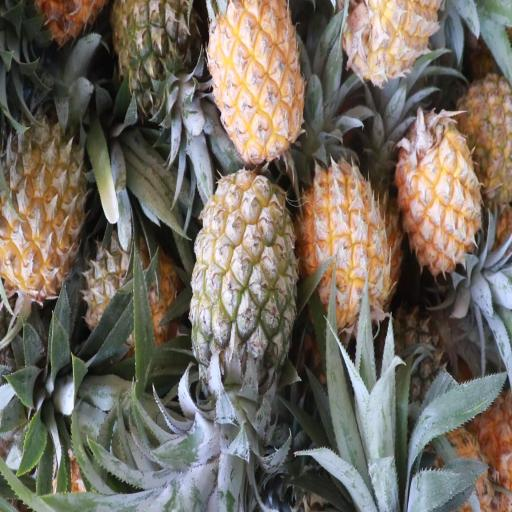------------------------------: (191, 166, 296, 386), (84, 222, 179, 349)
Pineapple - v8 v1: (0, 108, 88, 286), (212, 2, 309, 156), (300, 160, 387, 328), (394, 108, 479, 278)
